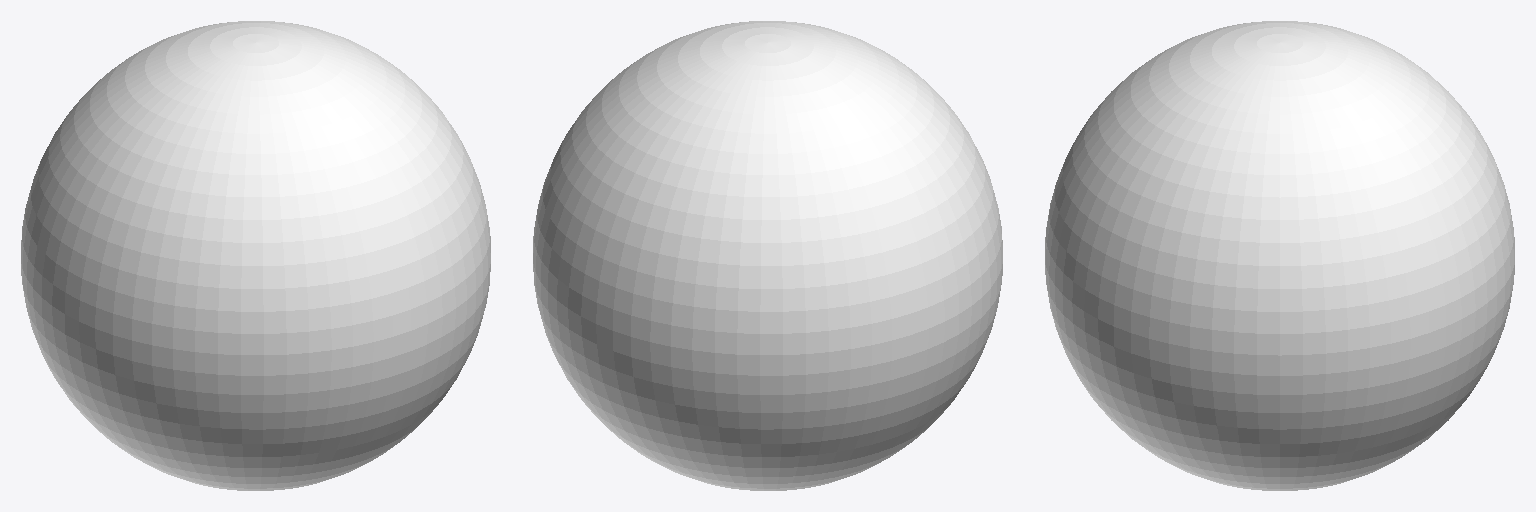
File: globe.obj
The picture shows the model from 3 angles: view 1: azimuth 30°, elevation 25°; view 2: azimuth 150°, elevation 25°; view 3: azimuth 270°, elevation 25°; orthographic projection.
Visible parts, largest first — view 1: Sphere; view 2: Sphere; view 3: Sphere.
Part boxes in pixels (x1,y1,x2,y2): Sphere: (21, 21, 490, 490); Sphere: (533, 21, 1002, 490); Sphere: (1045, 21, 1514, 490).
Bounding box in the file's own units: 2 × 2 × 2.